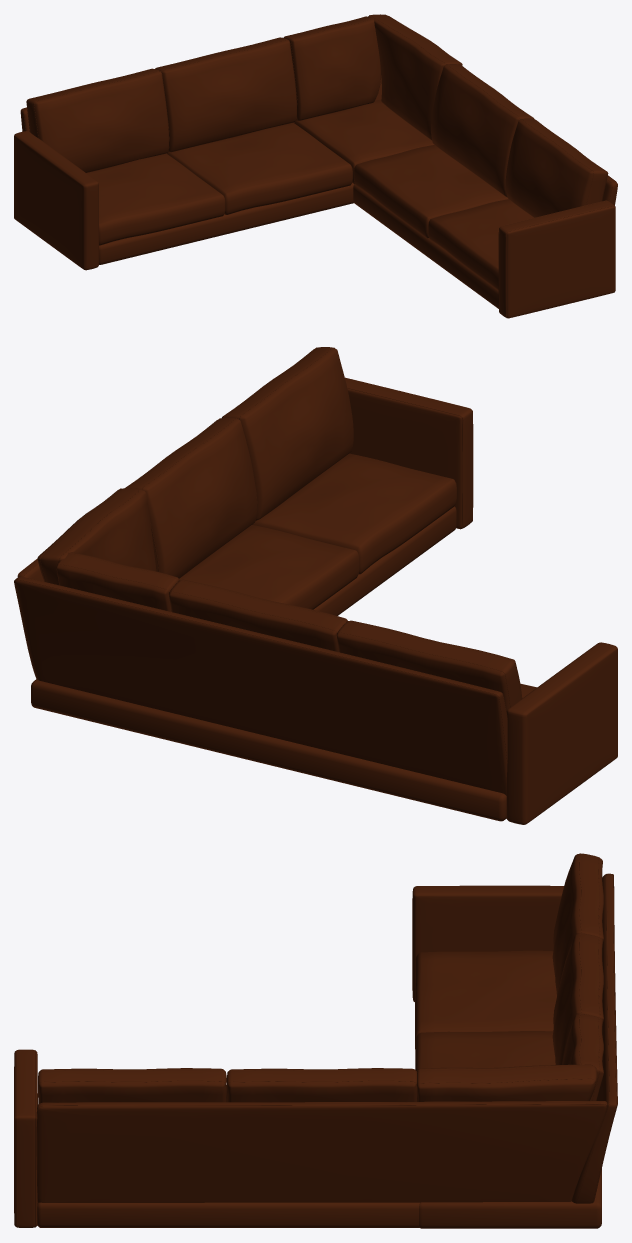
File: مبل.fbx
3 renders of one model, top to bottom at view 1: azimuth 30°, elevation 25°; view 2: azimuth 150°, elevation 25°; view 3: azimuth 270°, elevation 25°, orthographic. The views are drawn at different scales.
Parts seen in each view (by area): view 1: ChamferBox007, ChamferBox014, ChamferBox005, ChamferBox004, ChamferBox002, ChamferBox003, ChamferBox016, ChamferBox009, ChamferBox012, ChamferBox017, ChamferBox010, ChamferBox001 (+4 smaller); view 2: ChamferBox006, ChamferBox002, ChamferBox001, ChamferBox013, ChamferBox017, ChamferBox016, ChamferBox014, ChamferBox012, ChamferBox005, ChamferBox007, ChamferBox010, ChamferBox009 (+3 smaller); view 3: ChamferBox015, ChamferBox003, ChamferBox002, ChamferBox011, ChamferBox017, ChamferBox016, ChamferBox010, ChamferBox001, ChamferBox004, ChamferBox006, ChamferBox007, ChamferBox014 (+5 smaller).
Part boxes in pixels (box(x1,y1,x2,y2)): ChamferBox007: box(155, 37, 296, 152); ChamferBox014: box(499, 200, 615, 318); ChamferBox005: box(26, 69, 169, 172); ChamferBox004: box(167, 123, 352, 214); ChamferBox002: box(14, 131, 98, 270); ChamferBox003: box(86, 153, 225, 245); ChamferBox016: box(431, 64, 534, 196); ChamferBox009: box(284, 16, 380, 120); ChamferBox012: box(354, 145, 508, 238); ChamferBox017: box(505, 118, 608, 217); ChamferBox010: box(368, 14, 462, 140); ChamferBox001: box(99, 183, 353, 264); ChamferBox006: box(14, 577, 507, 795); ChamferBox002: box(506, 642, 617, 824); ChamferBox001: box(31, 679, 506, 821); ChamferBox013: box(252, 453, 456, 574); ChamferBox017: box(222, 347, 353, 520); ChamferBox016: box(125, 418, 256, 578); ChamferBox014: box(345, 378, 472, 528); ChamferBox012: box(179, 525, 359, 609); ChamferBox005: box(337, 620, 522, 710); ChamferBox007: box(169, 579, 347, 651); ChamferBox010: box(37, 488, 156, 585); ChamferBox009: box(56, 552, 179, 611); ChamferBox015: box(36, 1101, 607, 1202); ChamferBox003: box(415, 950, 556, 1048); ChamferBox002: box(412, 885, 563, 1001); ChamferBox011: box(37, 1202, 419, 1227); ChamferBox017: box(38, 1068, 226, 1103); ChamferBox016: box(226, 1068, 416, 1102); ChamferBox010: box(416, 1064, 596, 1101); ChamferBox001: box(419, 1168, 601, 1228); ChamferBox004: box(415, 1031, 555, 1071); ChamferBox006: box(572, 873, 617, 1203); ChamferBox007: box(552, 933, 603, 1064); ChamferBox014: box(14, 1049, 37, 1227).
Bounding box in the file's own units: 1236 × 363 × 1302.
